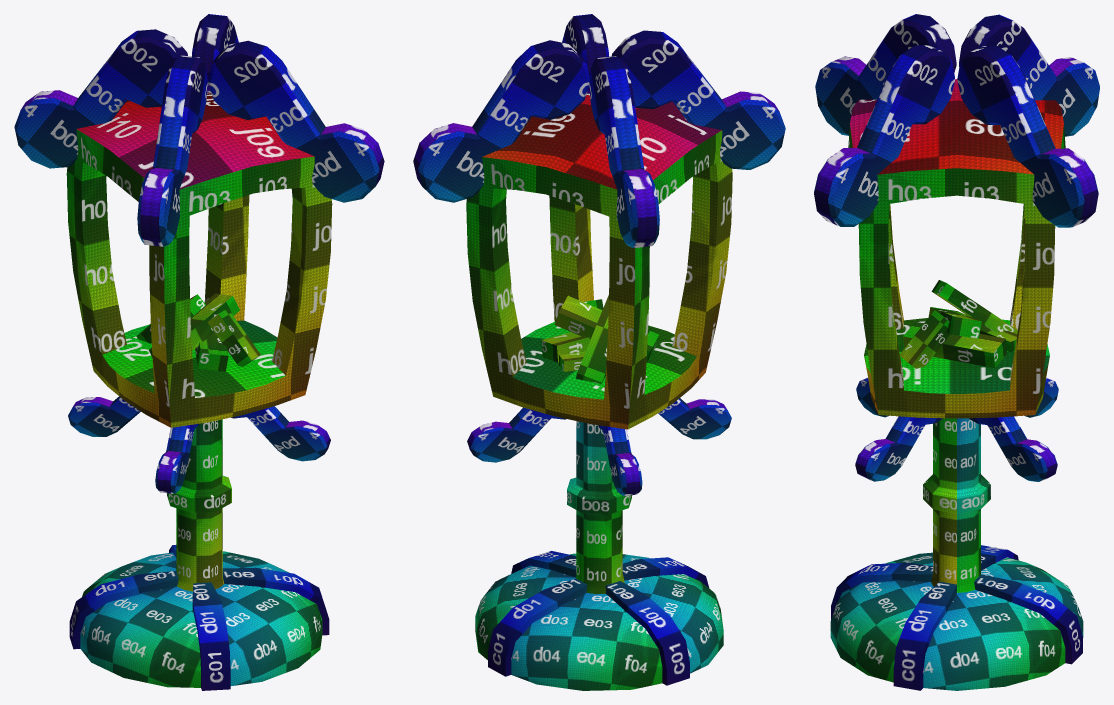
The model's file is TorchLamp.FBX.
3 views of the same model, side by side, from view 1: azimuth 30°, elevation 25°; view 2: azimuth 150°, elevation 25°; view 3: azimuth 270°, elevation 25° (orthographic).
Visible parts, largest first — view 1: TorchLamp; view 2: TorchLamp; view 3: TorchLamp.
Boxes of the visible parts, <box> form: TorchLamp: <box>14,14,384,690</box>; TorchLamp: <box>413,14,785,690</box>; TorchLamp: <box>814,14,1099,690</box>.
Size of the model in its own units: 3.65 by 8.5 by 3.65.
